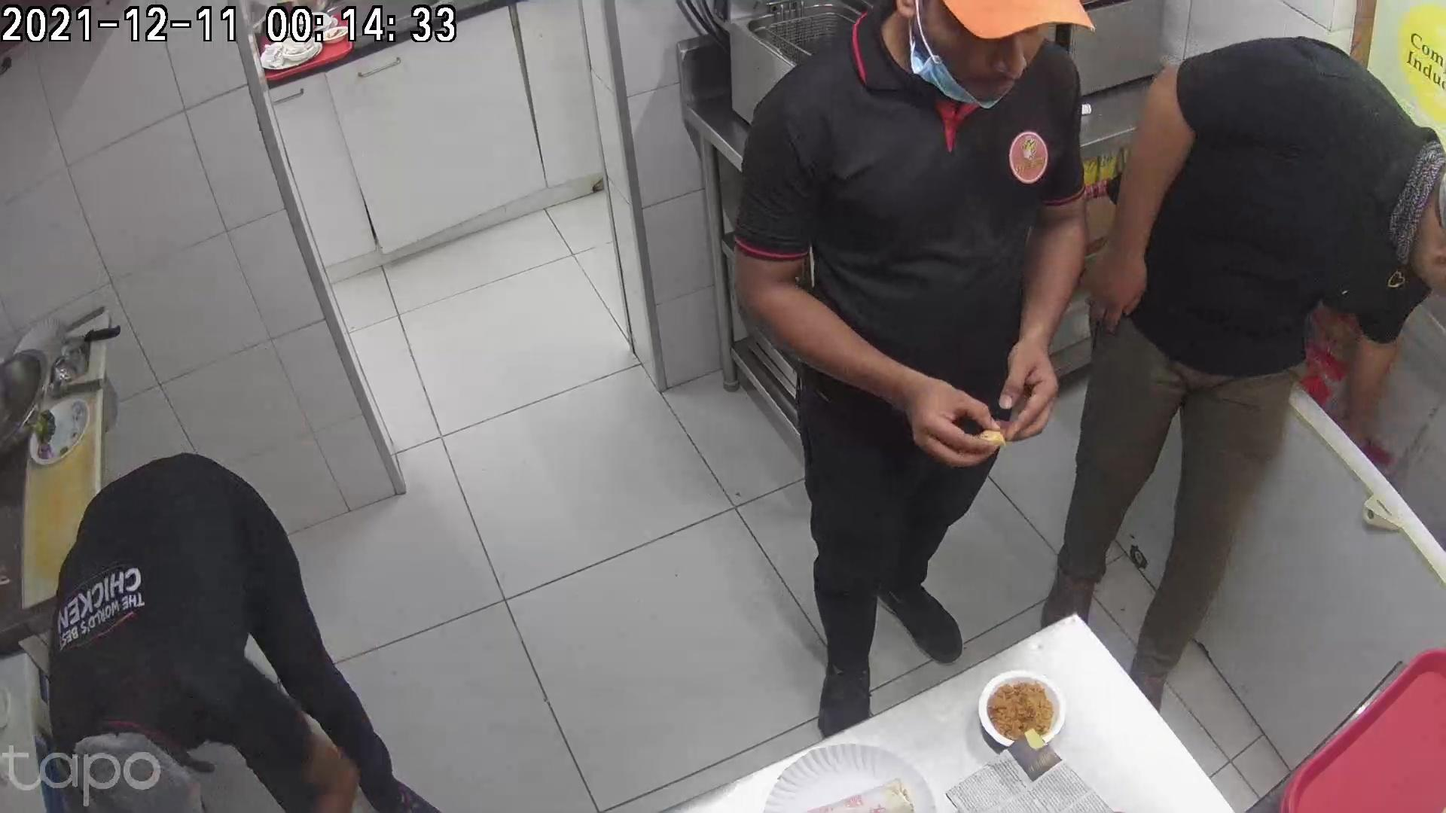no_gloves: (890, 367, 992, 469), (1001, 324, 1061, 433)
